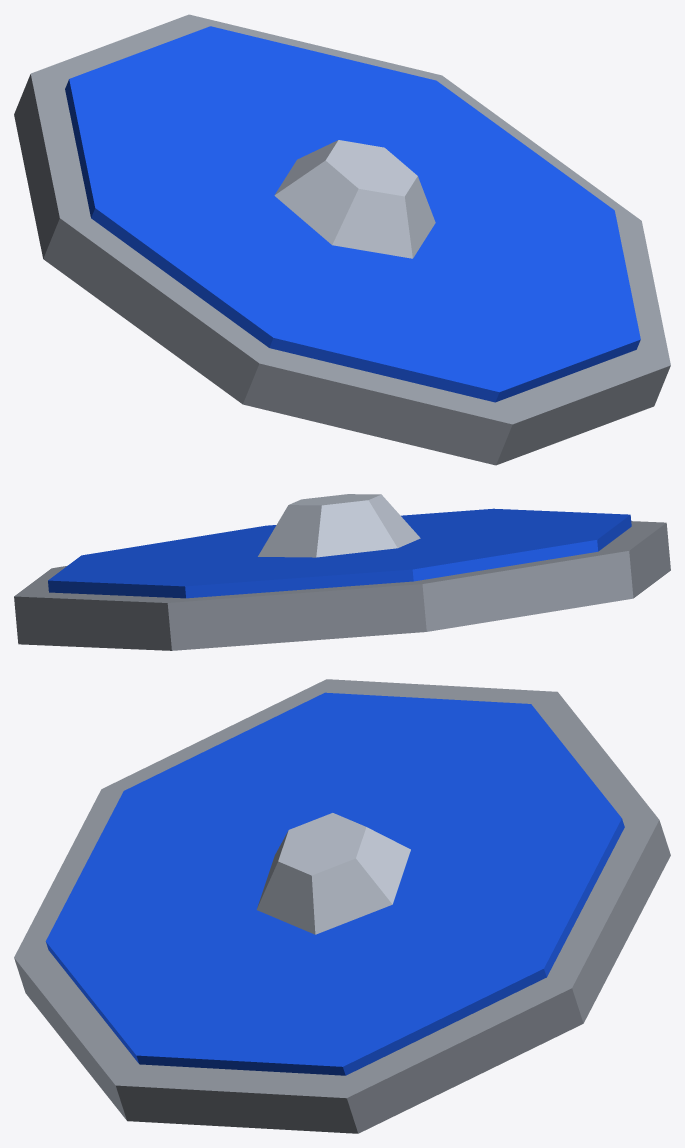
Rendered from shield.glb.
3 views of the same model, one above another, from view 1: azimuth 30°, elevation 25°; view 2: azimuth 150°, elevation 25°; view 3: azimuth 270°, elevation 25° (orthographic). The views are drawn at different scales.
Parts seen in each view (by area): view 1: shield; view 2: shield; view 3: shield.
Part boxes in pixels (box(x1,y1,x2,y2)): shield: box(14, 14, 670, 465); shield: box(14, 494, 670, 650); shield: box(14, 679, 670, 1133).
Bounding box in the file's own units: 0.8291 × 0.3444 × 0.8291.
